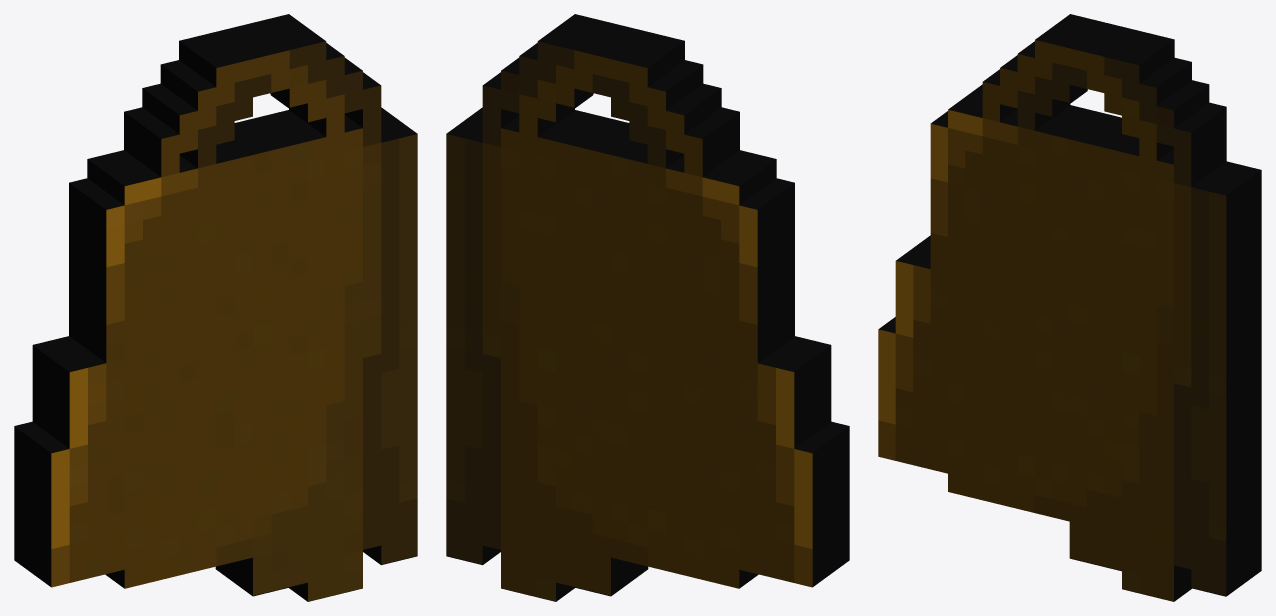
File: paper_bag_new(3).glb
3 views of the same model, side by side, from view 1: azimuth 30°, elevation 25°; view 2: azimuth 150°, elevation 25°; view 3: azimuth 330°, elevation 25° (orthographic). The views are drawn at different scales.
Parts seen in each view (by area): view 1: paperBag; view 2: paperBag; view 3: paperBag.
Boxes of the visible parts, x1,y1,x2,y2 form: paperBag: [14, 14, 417, 601]; paperBag: [446, 14, 849, 601]; paperBag: [878, 14, 1261, 601].
Size of the model in its own units: 0.625 by 0.9068 by 0.1101.
2 materials, 1 textured.
